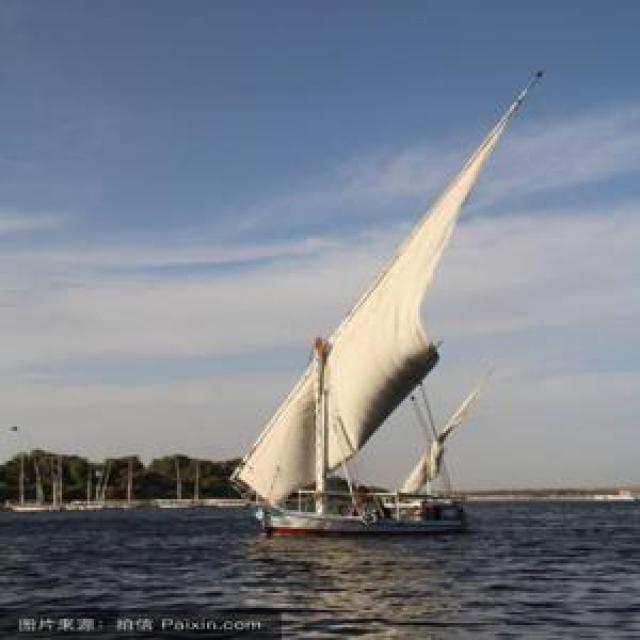sailboat: (225, 68, 550, 539)
